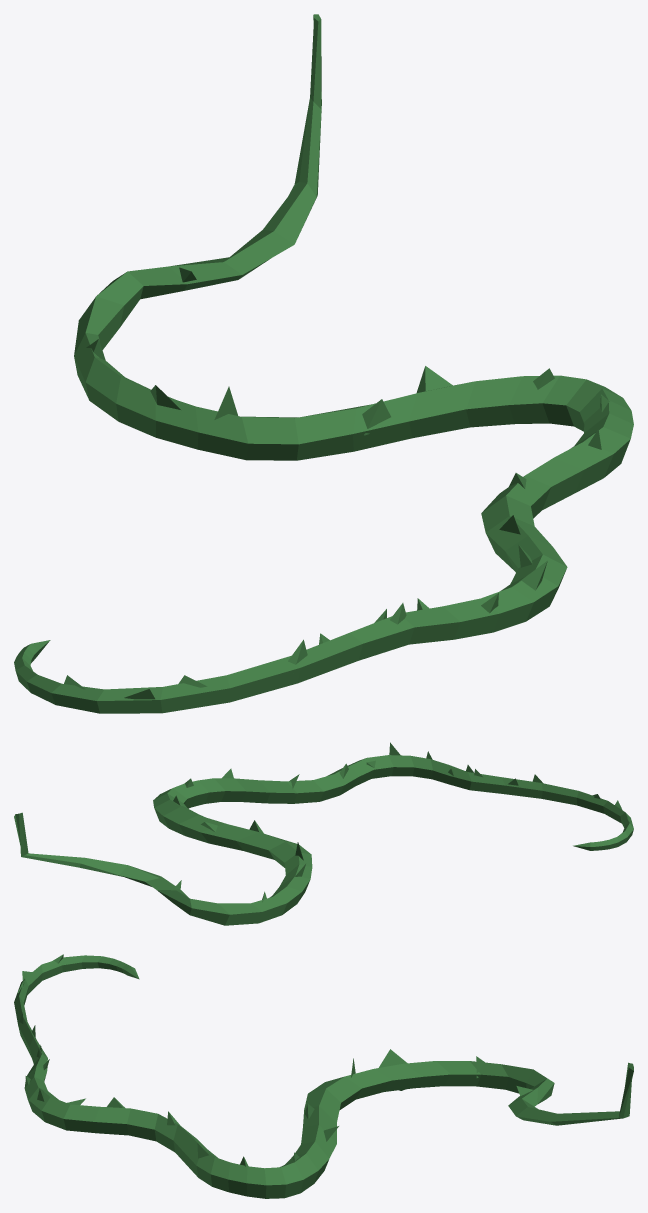
The model's file is vine 3.fbx.
3 renders of one model, top to bottom at view 1: azimuth 30°, elevation 25°; view 2: azimuth 150°, elevation 25°; view 3: azimuth 270°, elevation 25°, orthographic. The views are drawn at different scales.
Parts seen in each view (by area): view 1: polySurface288; view 2: polySurface288; view 3: polySurface288.
Part boxes in pixels (bbox=[...]): polySurface288: bbox=[14, 14, 633, 713]; polySurface288: bbox=[14, 742, 633, 925]; polySurface288: bbox=[14, 954, 633, 1198].
Size of the model in its own units: 17.05 by 4.57 by 19.48.
